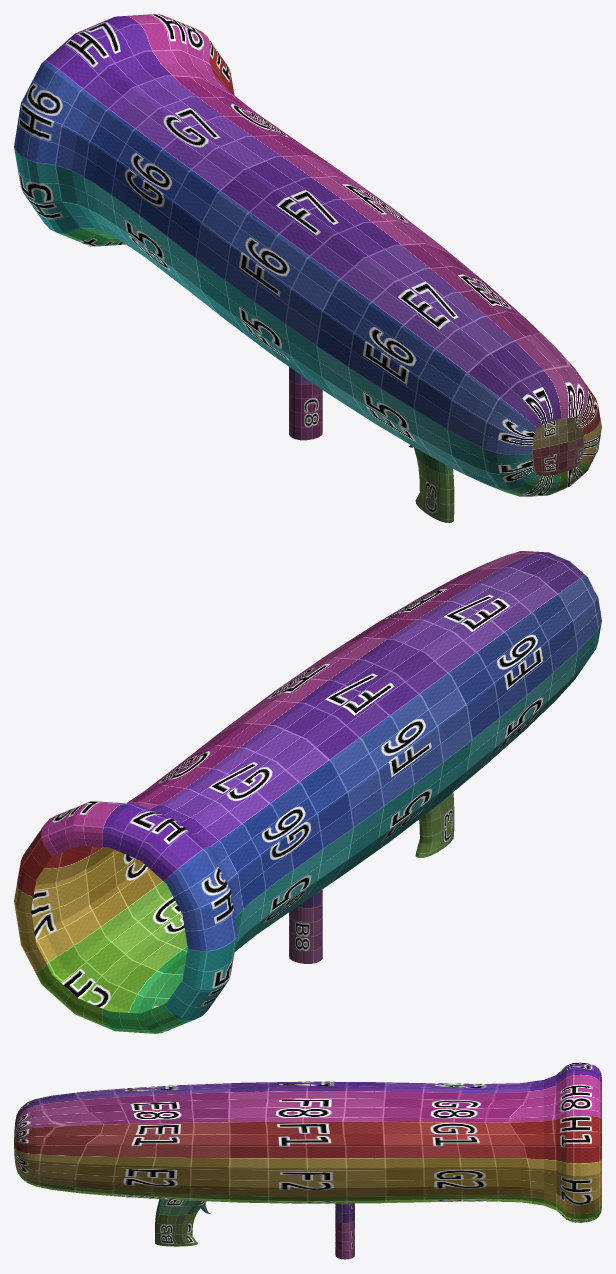
Rendered from catzooka.glb.
3 renders of one model, top to bottom at view 1: azimuth 30°, elevation 25°; view 2: azimuth 150°, elevation 25°; view 3: azimuth 270°, elevation 25°, orthographic. The views are drawn at different scales.
Visible parts, largest first — view 1: Cube; view 2: Cube; view 3: Cube.
Part boxes in pixels (bbox=[...]): Cube: bbox=[14, 14, 601, 522]; Cube: bbox=[14, 551, 601, 1033]; Cube: bbox=[14, 1062, 601, 1259].
Size of the model in its own units: 2.92 by 3.73 by 10.82.
1 material, 1 textured.
